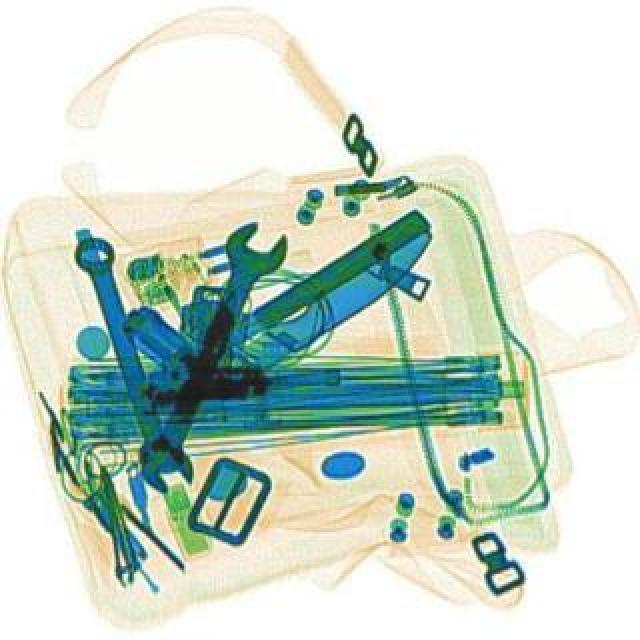gun: (118, 284, 342, 420)
knife: (136, 212, 432, 412), (186, 216, 442, 436)
scissors: (124, 218, 292, 486), (58, 234, 198, 500)
